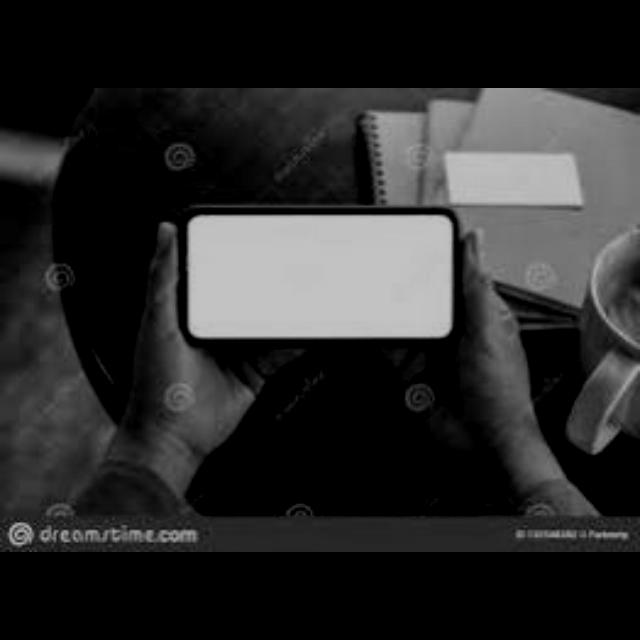fake: (178, 214, 459, 346)
